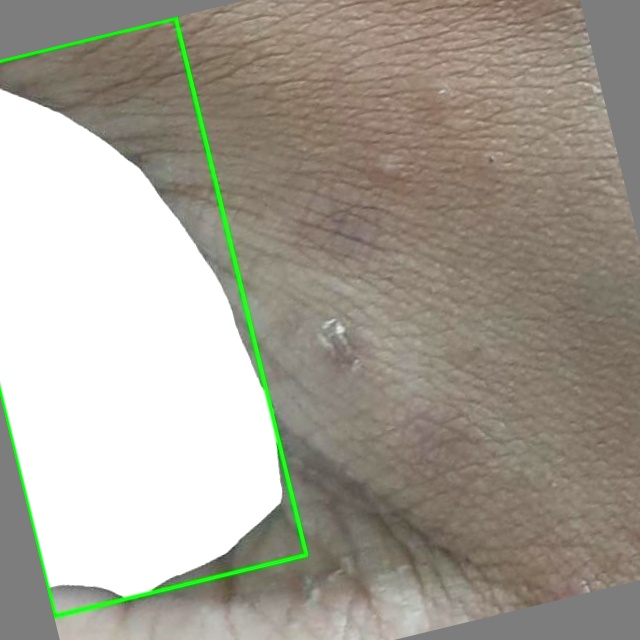Scabies: (0, 17, 306, 616)
